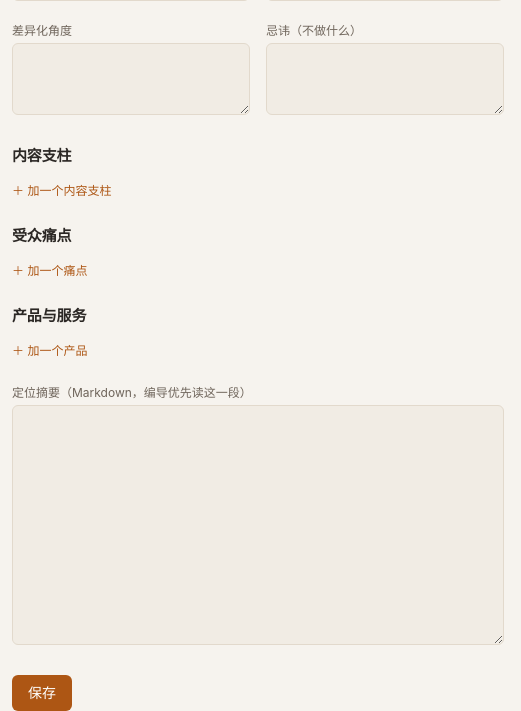
Test case: PersonaEditor › shows the server message when saving fails
(page scrolled)
Click the button "保存".
click(42, 693)  # box [12,675,72,710]
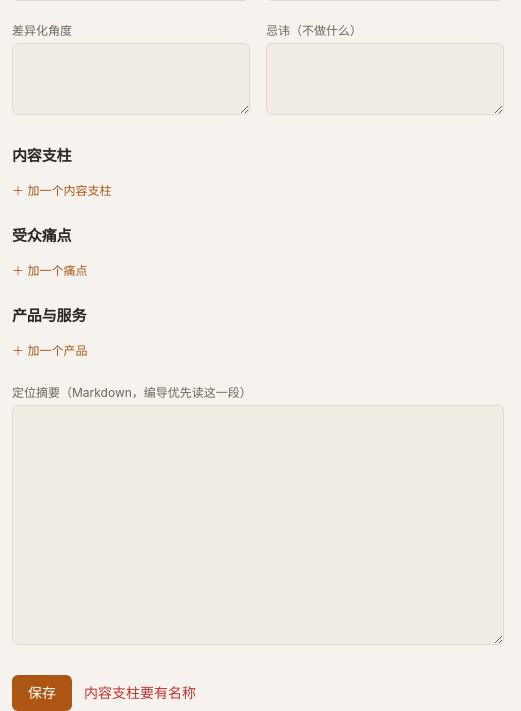
Result: the text "内容支柱要有名称" is shown at [84,683,196,703]
